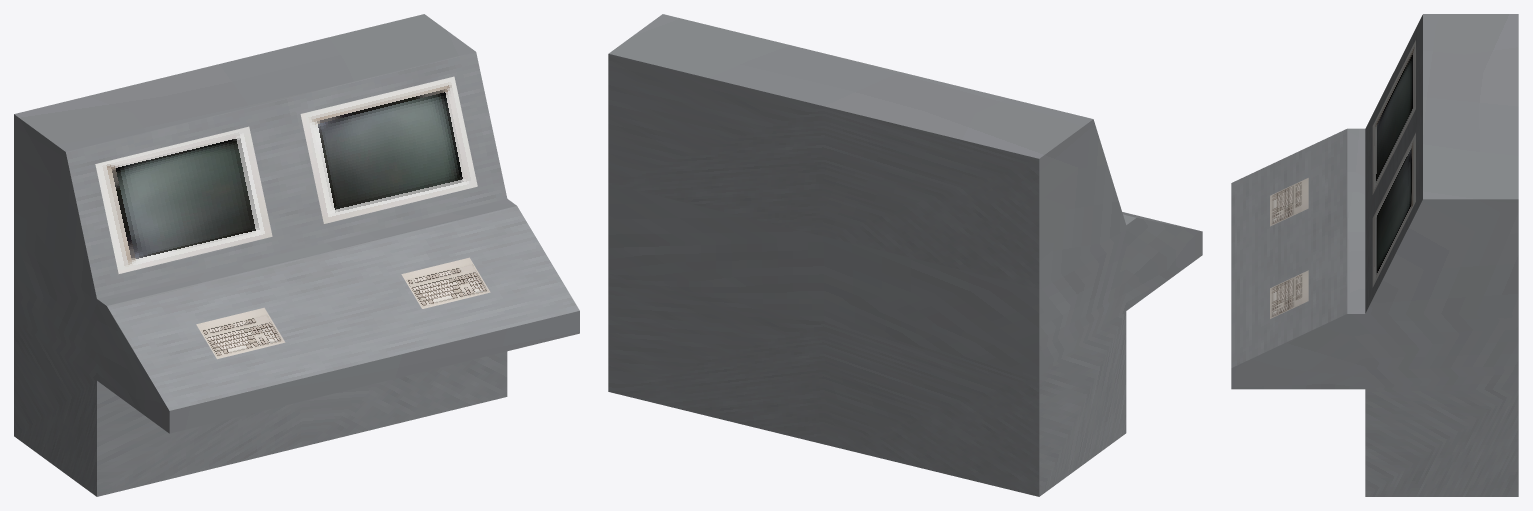
The model's file is ComputerTerminal.glb.
3 renders of one model, left to right at view 1: azimuth 30°, elevation 25°; view 2: azimuth 150°, elevation 25°; view 3: azimuth 270°, elevation 25°, orthographic. The views are drawn at different scales.
Visible parts, largest first — view 1: ComputerTerminal; view 2: ComputerTerminal; view 3: ComputerTerminal.
Boxes of the visible parts, x1,y1,x2,y2 form: ComputerTerminal: (14,14,579,496); ComputerTerminal: (608,14,1202,496); ComputerTerminal: (1231,14,1518,496).
Bounding box in the file's own units: 2 × 1.5 × 1.31.
1 material, 1 textured.
